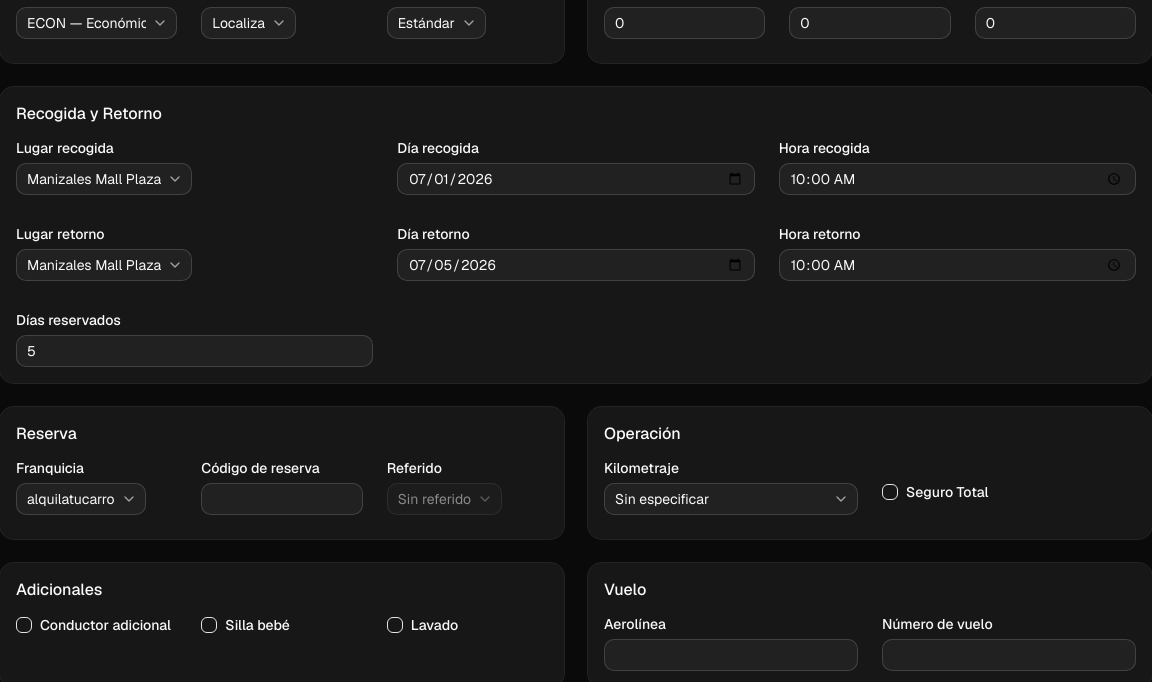
Scenario: ReservationForm — autosave on status change (issue #153) › aborts before persisting the form when the customer contact is invalid
(page scrolled)
# Form dirty.
Replace the text in the number field labelled "Días reservados" with "7": [195, 351] box [16, 335, 373, 367]
(page scrolled)
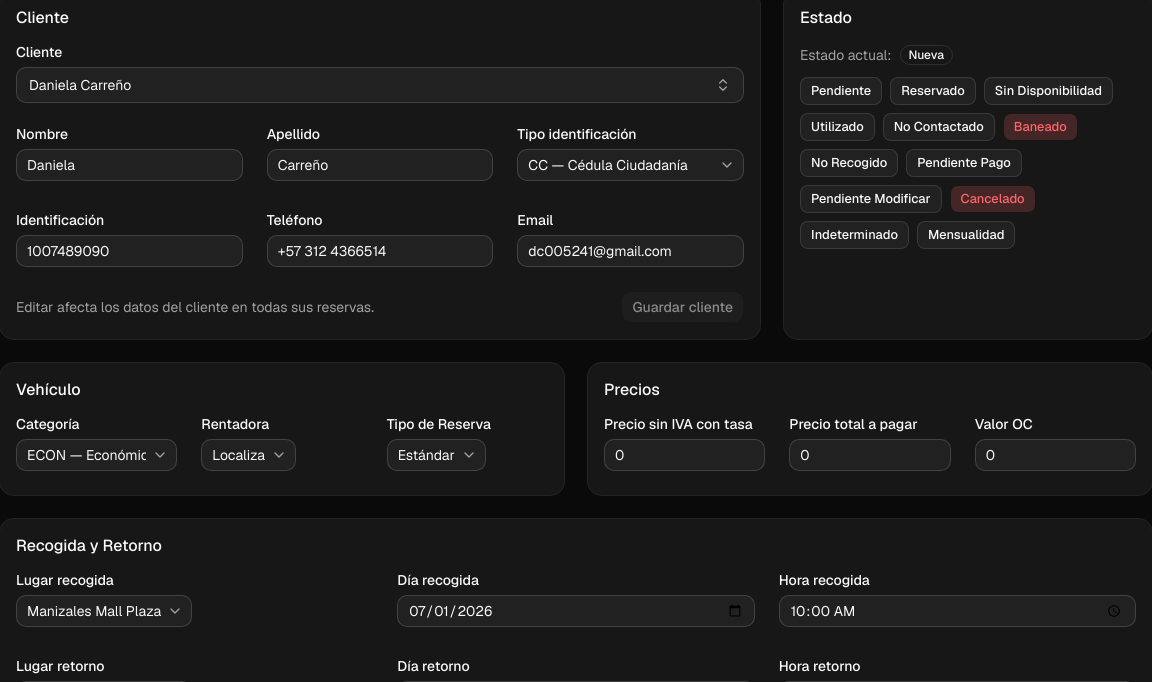
# Customer contact dirty AND invalid.
Replace the text in the field labelled "Email" with "noesunemail": [631, 251] box [517, 235, 744, 267]
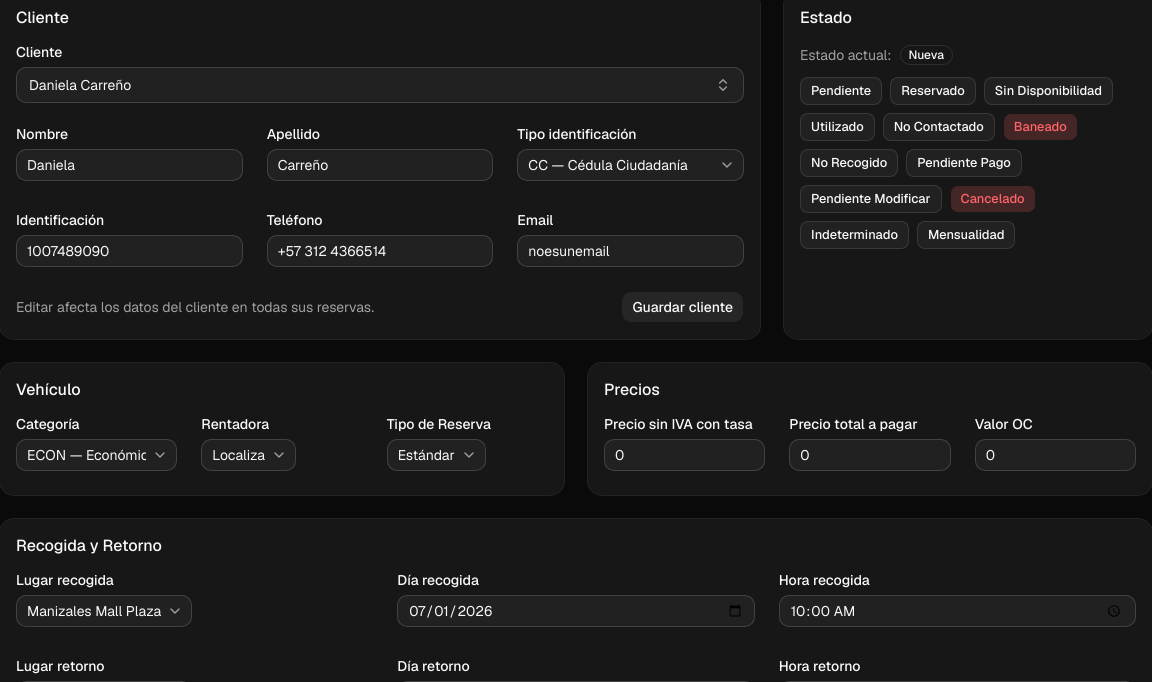
Click the button "Reservado": [933, 91] box [890, 77, 976, 105]
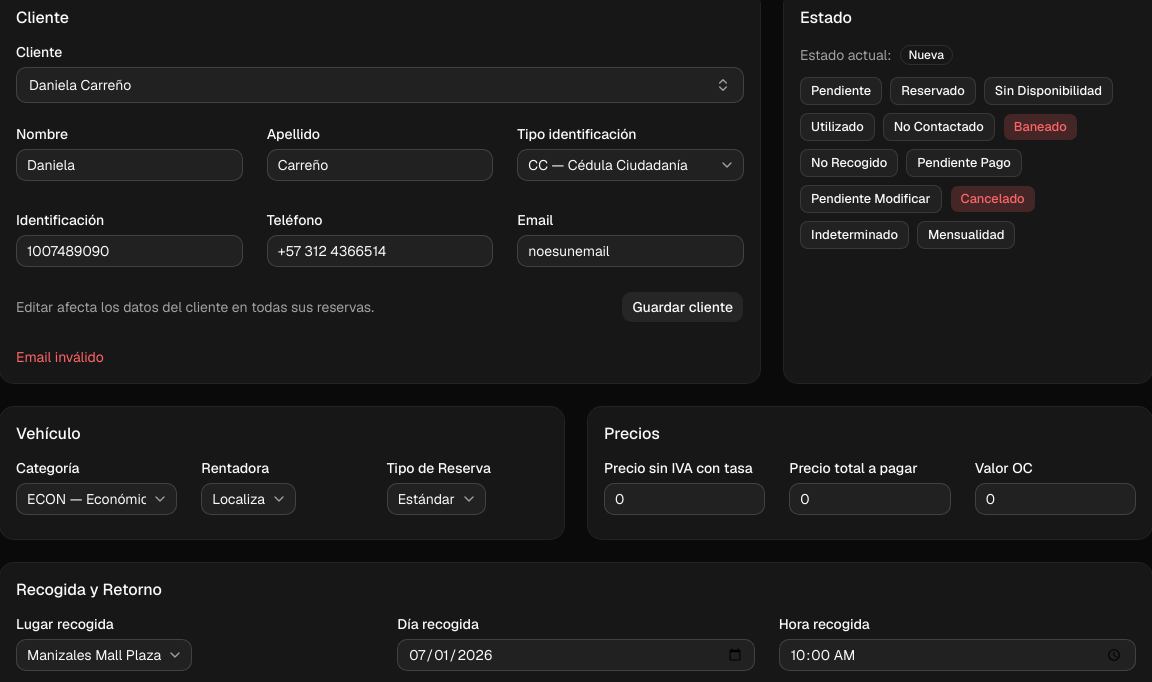
Now the text "Email inválido" is shown, box [16, 348, 104, 366]
